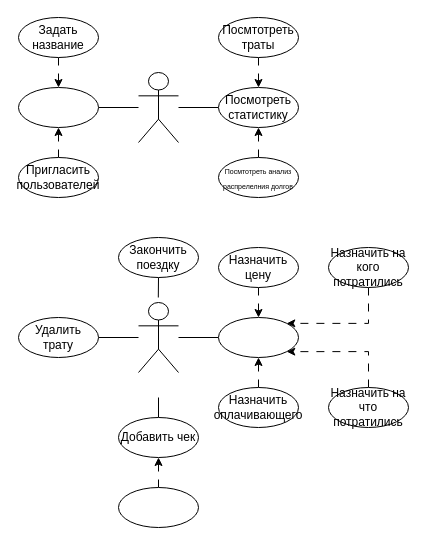
Image size: 426x545. Some labels were removed from this diagram. Each missing label, with the centre of its shape:
"Добавить трату" goes at [258,337].
"Пользователь" goes at [158,107].
"Привязать траты" goes at [158,507].
"Создать поездку" goes at [58,107].
"Участник" goes at [158,337].
